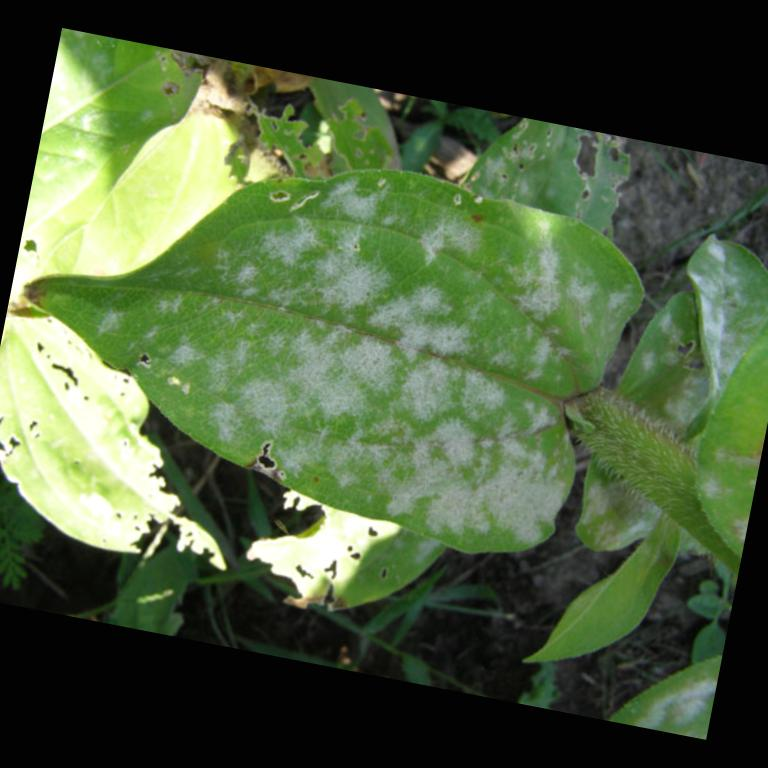powdery-mildew: (201, 210, 578, 500)
